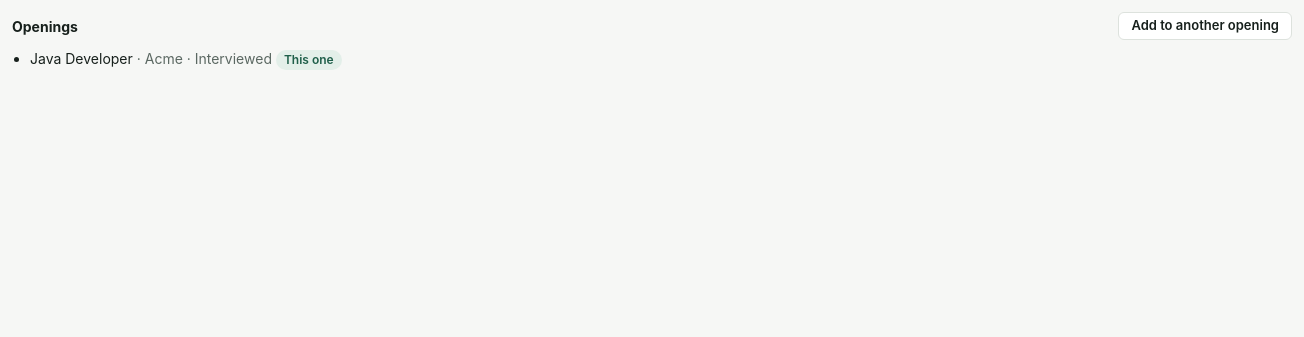
Test case: OpeningsSection (PIPE-13, PIPE-14) › lists the candidate’s openings and adds them to another client’s opening
Expected: the text "Java Developer" is shown, [30,50,133,67]
Expected: the text "This one" is shown, [276,50,342,70]
Click the button "Add to another opening" at (1205, 26), box [1118,12,1292,40]
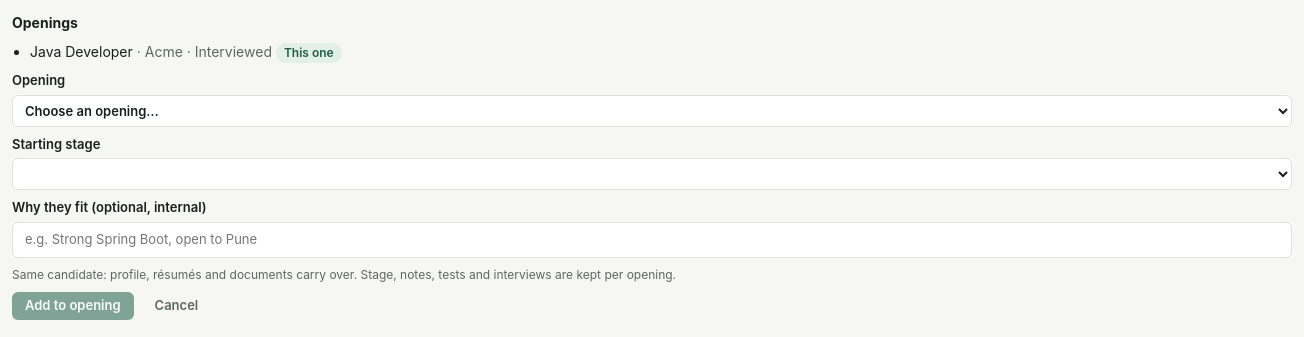
Select "Spring Boot Developer" in the dropdown labelled "Opening" at (652, 110), box [12,94,1292,126]
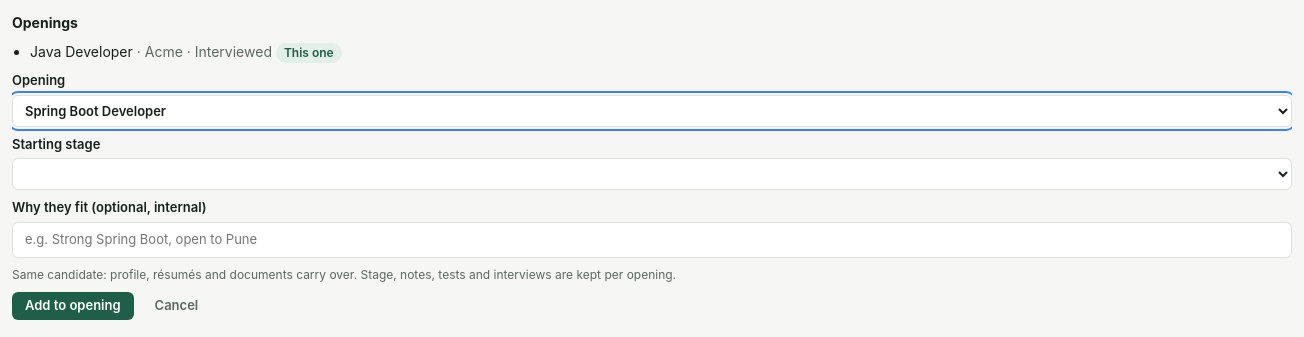
Select "SCREENING" in the dropdown labelled "Starting stage" at (652, 174), box [12,158,1292,190]
Type "Strong Spring skills" into the field labelled "Why they fit (optional, internal)" at (652, 240), box [12,222,1292,258]
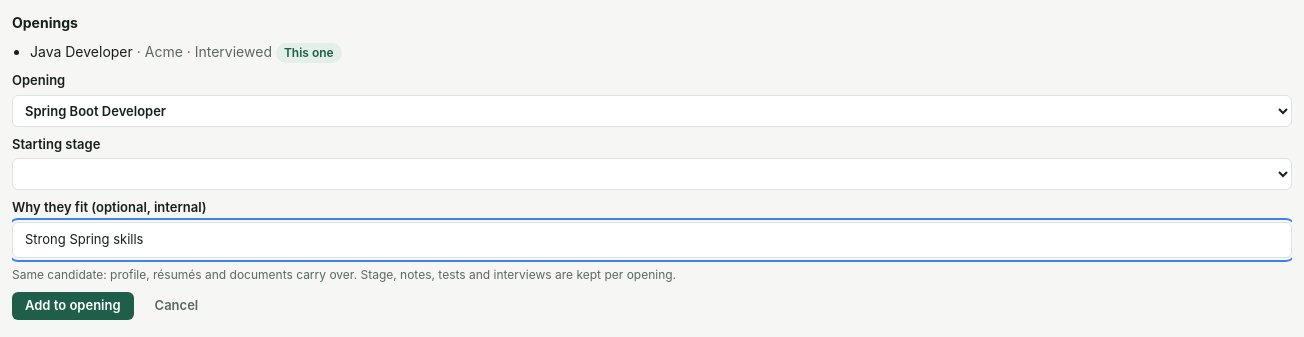
Click the button "Add to opening" at (73, 306), box [12,292,134,320]
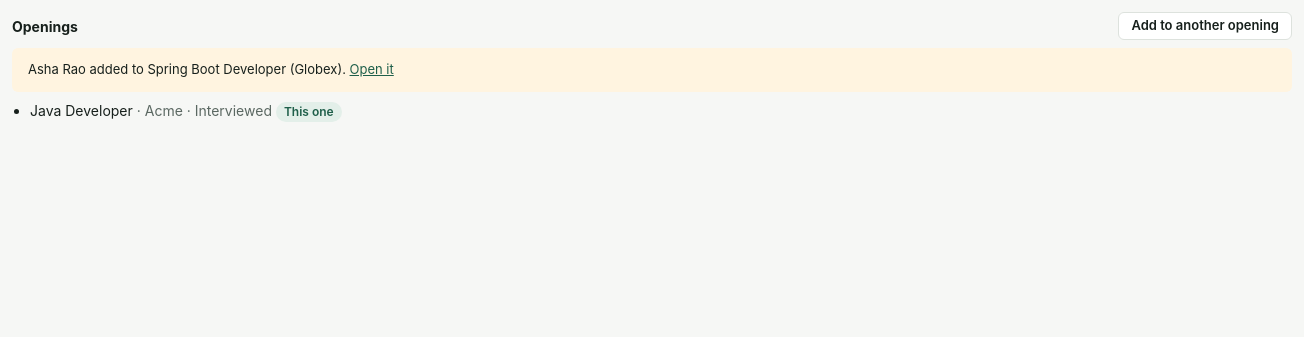
Expected: the text "Asha Rao added to Spring Boot Developer (Globex). Open it" is shown, [12,48,1292,92]
